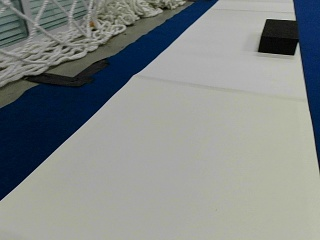block: (258, 19, 298, 55)
